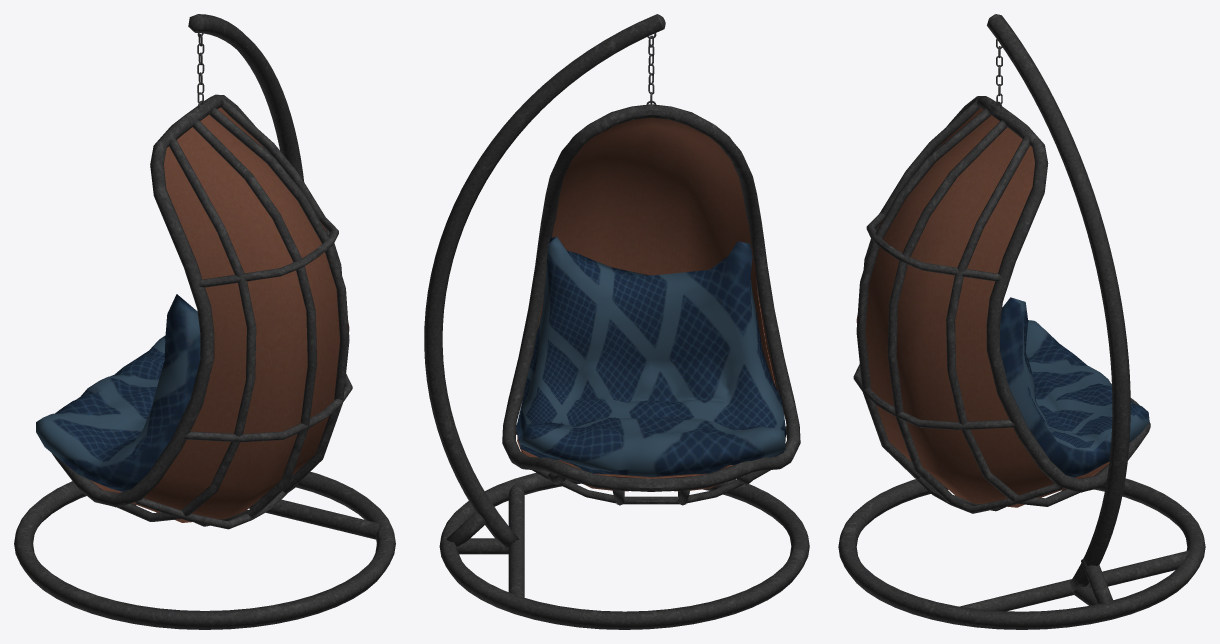
File: Swing.glb
3 renders of one model, left to right at view 1: azimuth 30°, elevation 25°; view 2: azimuth 150°, elevation 25°; view 3: azimuth 270°, elevation 25°, orthographic. The views are drawn at different scales.
Parts seen in each view (by area): view 1: SM_Swing; view 2: SM_Swing; view 3: SM_Swing.
Boxes of the visible parts, bbox=[...] form: SM_Swing: bbox=[14, 14, 395, 629]; SM_Swing: bbox=[424, 14, 809, 629]; SM_Swing: bbox=[838, 14, 1205, 629].
Size of the model in its own units: 1.04 by 1.66 by 1.04.
Materials: 1 (1 with a texture image).
